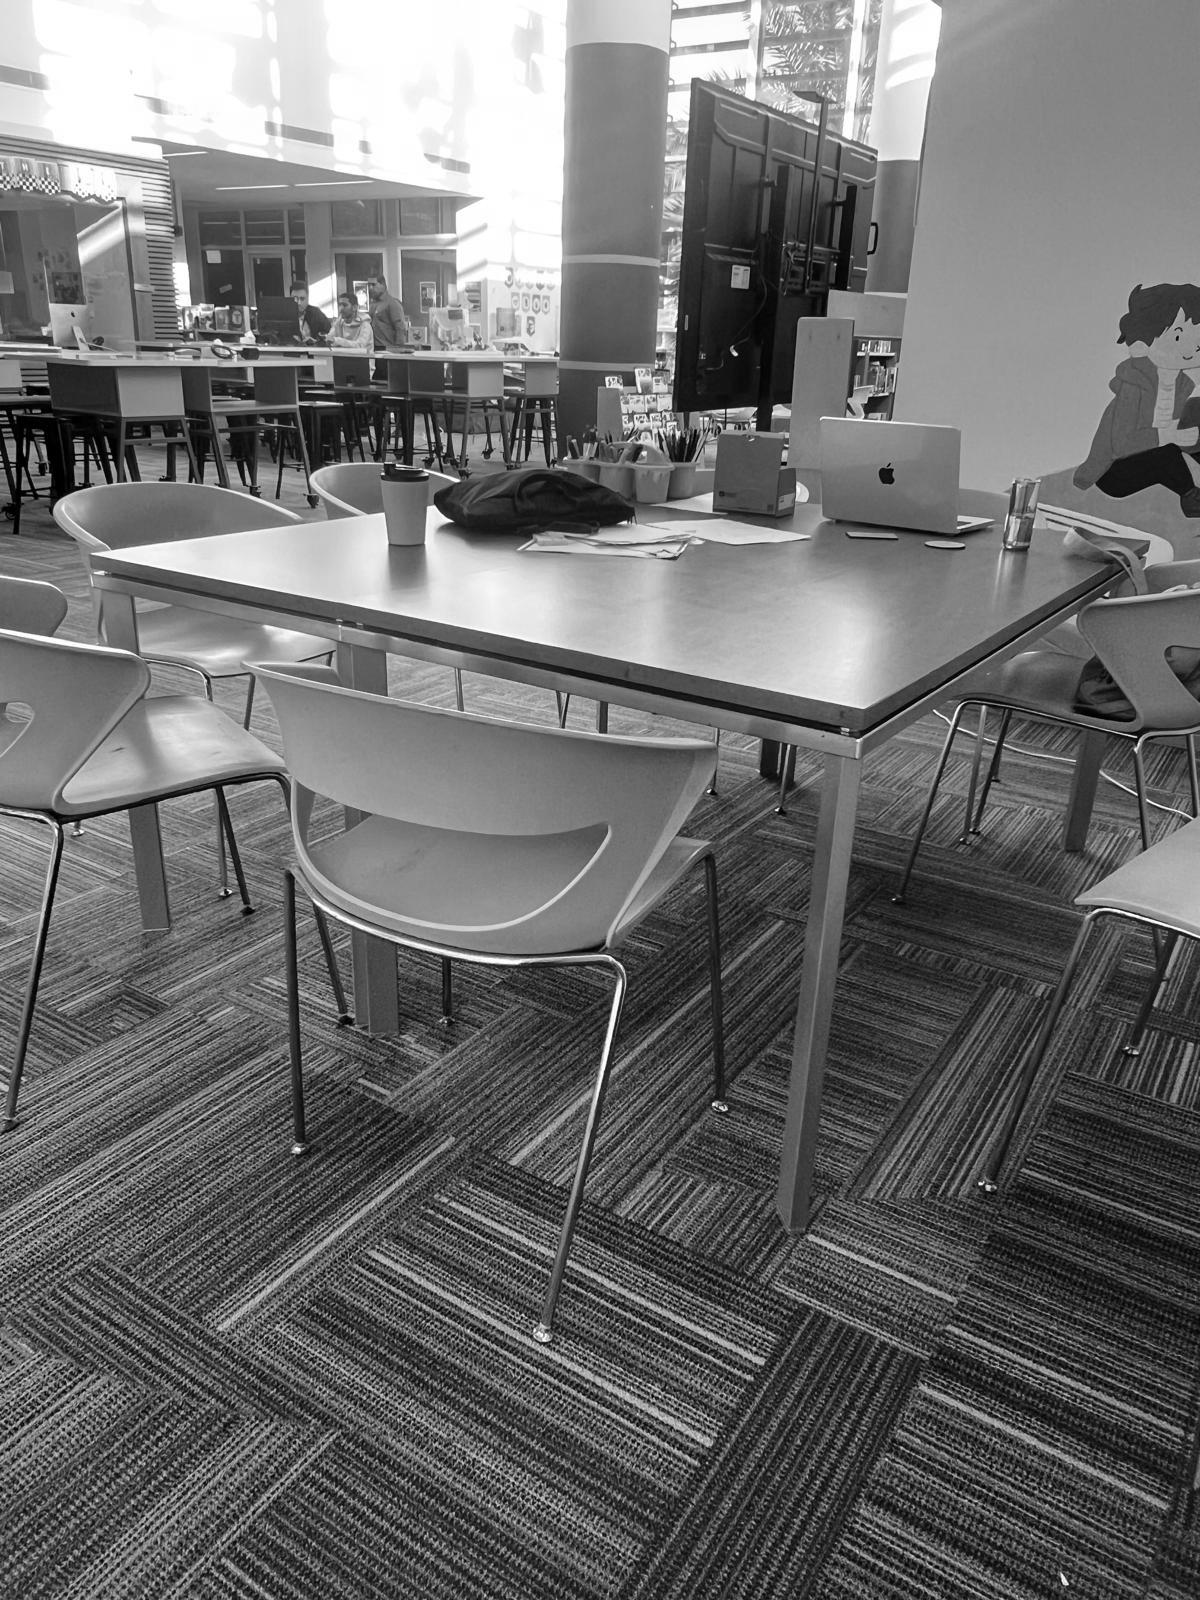Chair: (253, 664, 726, 1344), (0, 580, 285, 1128), (895, 561, 1199, 900), (993, 818, 1199, 1174), (53, 483, 300, 643), (140, 603, 332, 699), (313, 462, 381, 518), (424, 472, 458, 504)
Pillar: (560, 0, 669, 432), (866, 0, 940, 291)
Table: (92, 504, 1119, 1232), (45, 346, 316, 506), (333, 345, 558, 476), (130, 803, 170, 930)
Tv: (676, 81, 876, 409)
Wall: (897, 0, 1199, 556), (0, 135, 174, 336)
